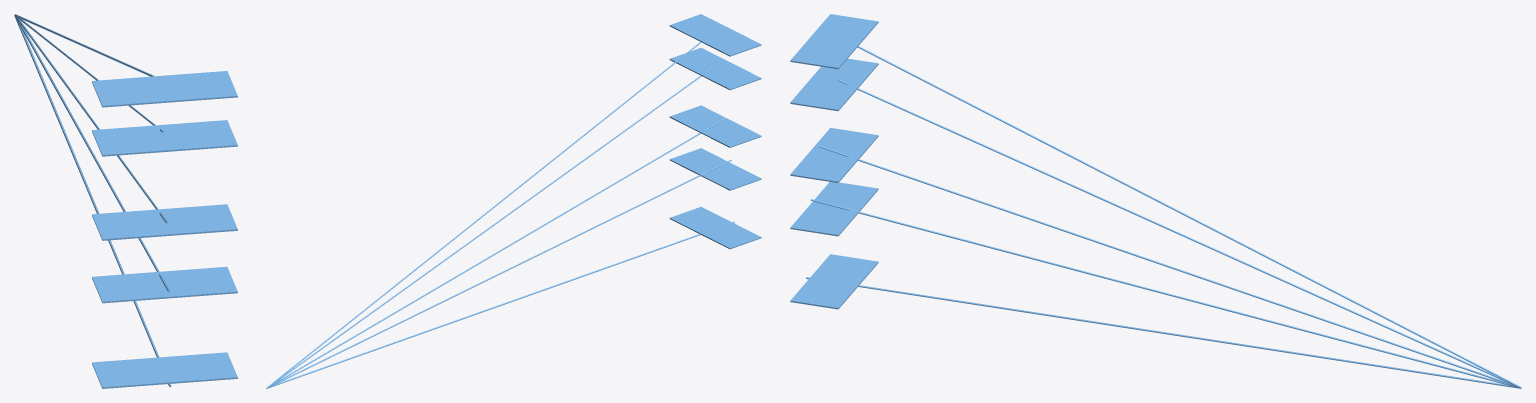
Rendered from M_ManPerspective.FBX.
The picture shows the model from 3 angles, left to right: view 1: azimuth 30°, elevation 25°; view 2: azimuth 150°, elevation 25°; view 3: azimuth 270°, elevation 25°; orthographic projection. The views are drawn at different scales.
Visible parts, largest first — view 1: Perspective; view 2: Perspective; view 3: Perspective.
Boxes of the visible parts, box(x1,y1,x2,y2) form: Perspective: box(14, 14, 237, 388); Perspective: box(266, 14, 761, 388); Perspective: box(790, 14, 1521, 388).
Size of the model in its own units: 214 by 183 by 499.
